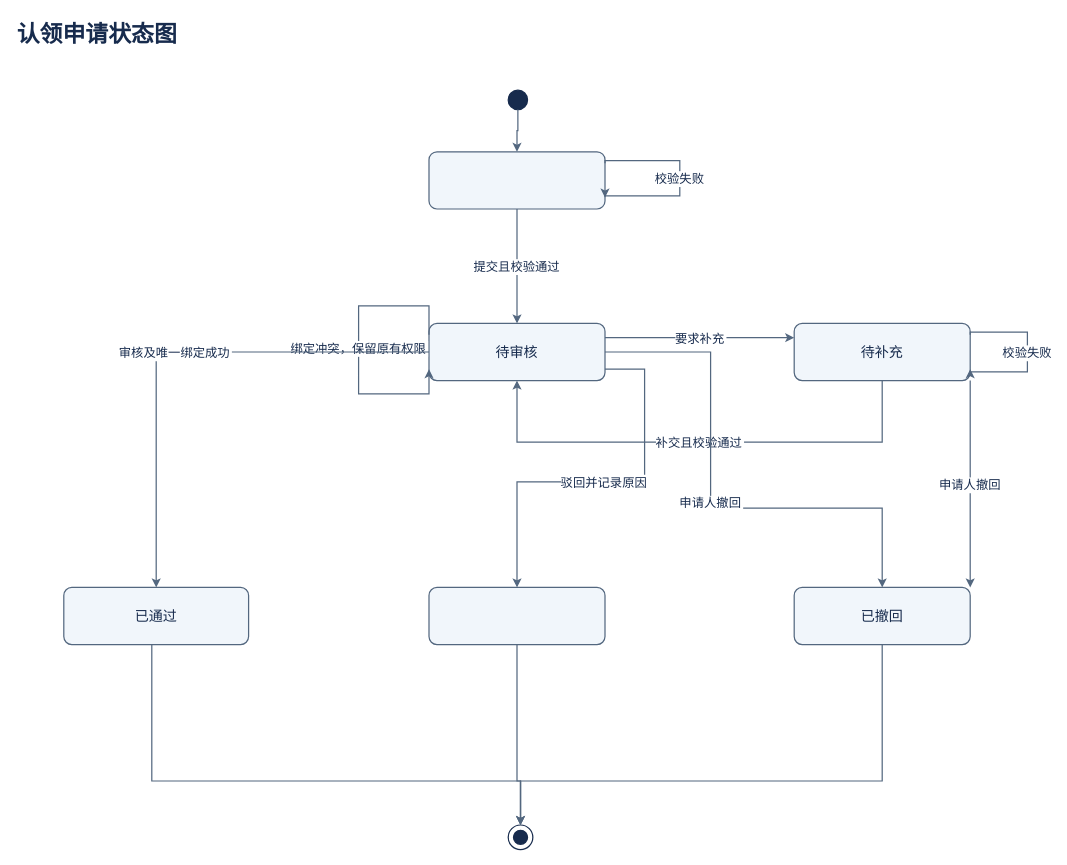
Image size: 1067x865. Some labels were removed from this diagram. The centre of each missing label's shape, as x and y in pixels:
"已驳回" belongs at point 516,615.
"草稿" belongs at point 516,180.
